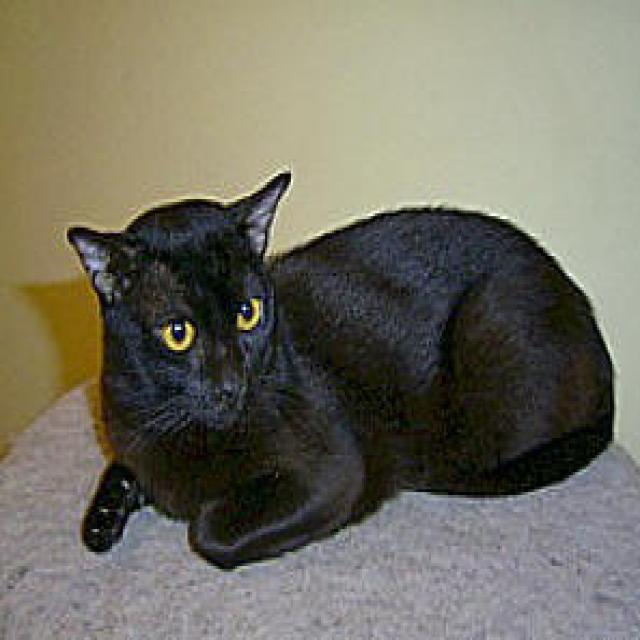Bombay: (64, 168, 296, 437)
